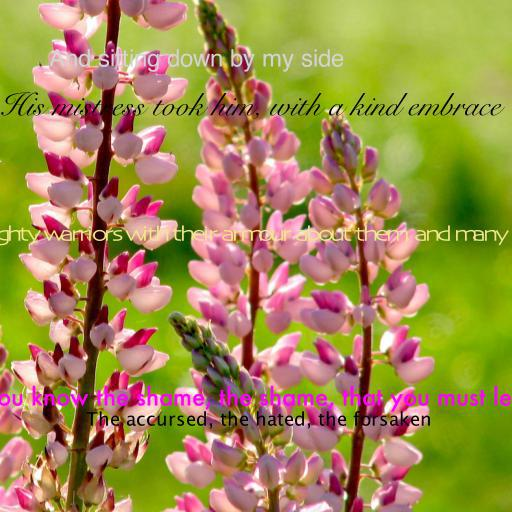Futura: (0, 385, 512, 412)
Lucida Grande: (86, 411, 432, 429)
SF Pro: (48, 49, 344, 72)
Skia: (0, 225, 512, 246)
Snell Roundhand: (0, 92, 501, 120)
